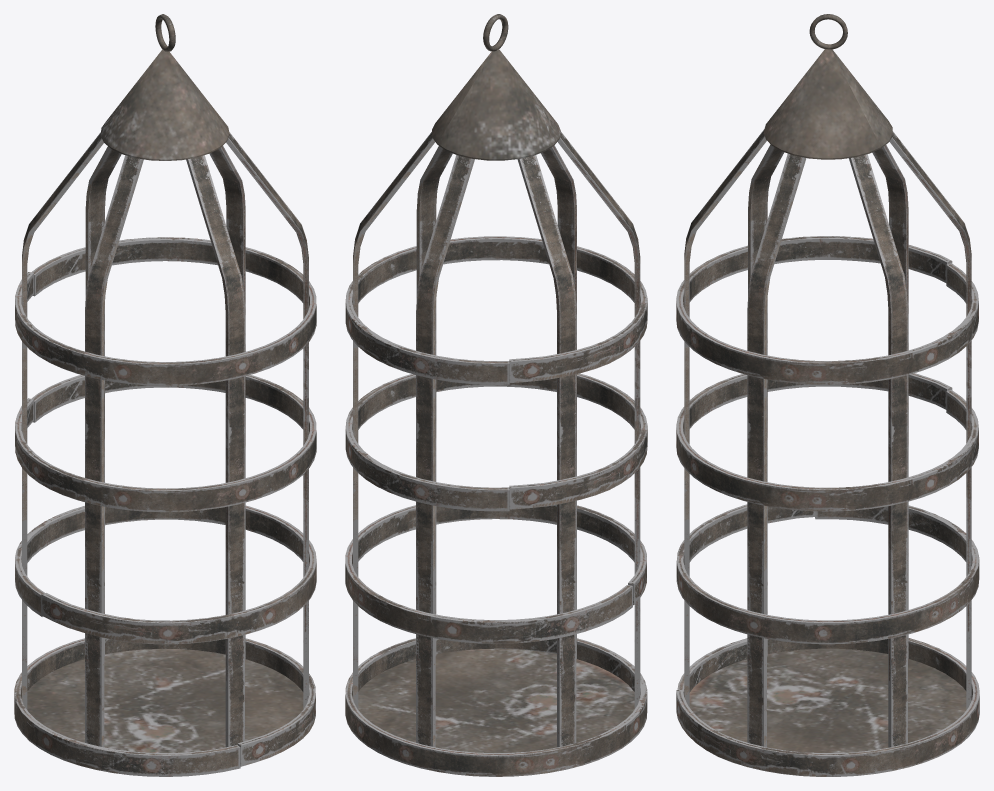
The model's file is SM_MetalCage01.FBX.
The picture shows the model from 3 angles, left to right: view 1: azimuth 30°, elevation 25°; view 2: azimuth 150°, elevation 25°; view 3: azimuth 270°, elevation 25°; orthographic projection.
Parts seen in each view (by area): view 1: SM_MetalCage01; view 2: SM_MetalCage01; view 3: SM_MetalCage01.
Boxes of the visible parts, left/top/right/bottom form: SM_MetalCage01: left=14, top=14, right=316, bottom=776; SM_MetalCage01: left=345, top=14, right=647, bottom=776; SM_MetalCage01: left=676, top=14, right=979, bottom=776.
Bounding box in the file's own units: 90.8 × 91.01 × 231.
